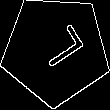L_SW: (27, 24, 85, 77)
